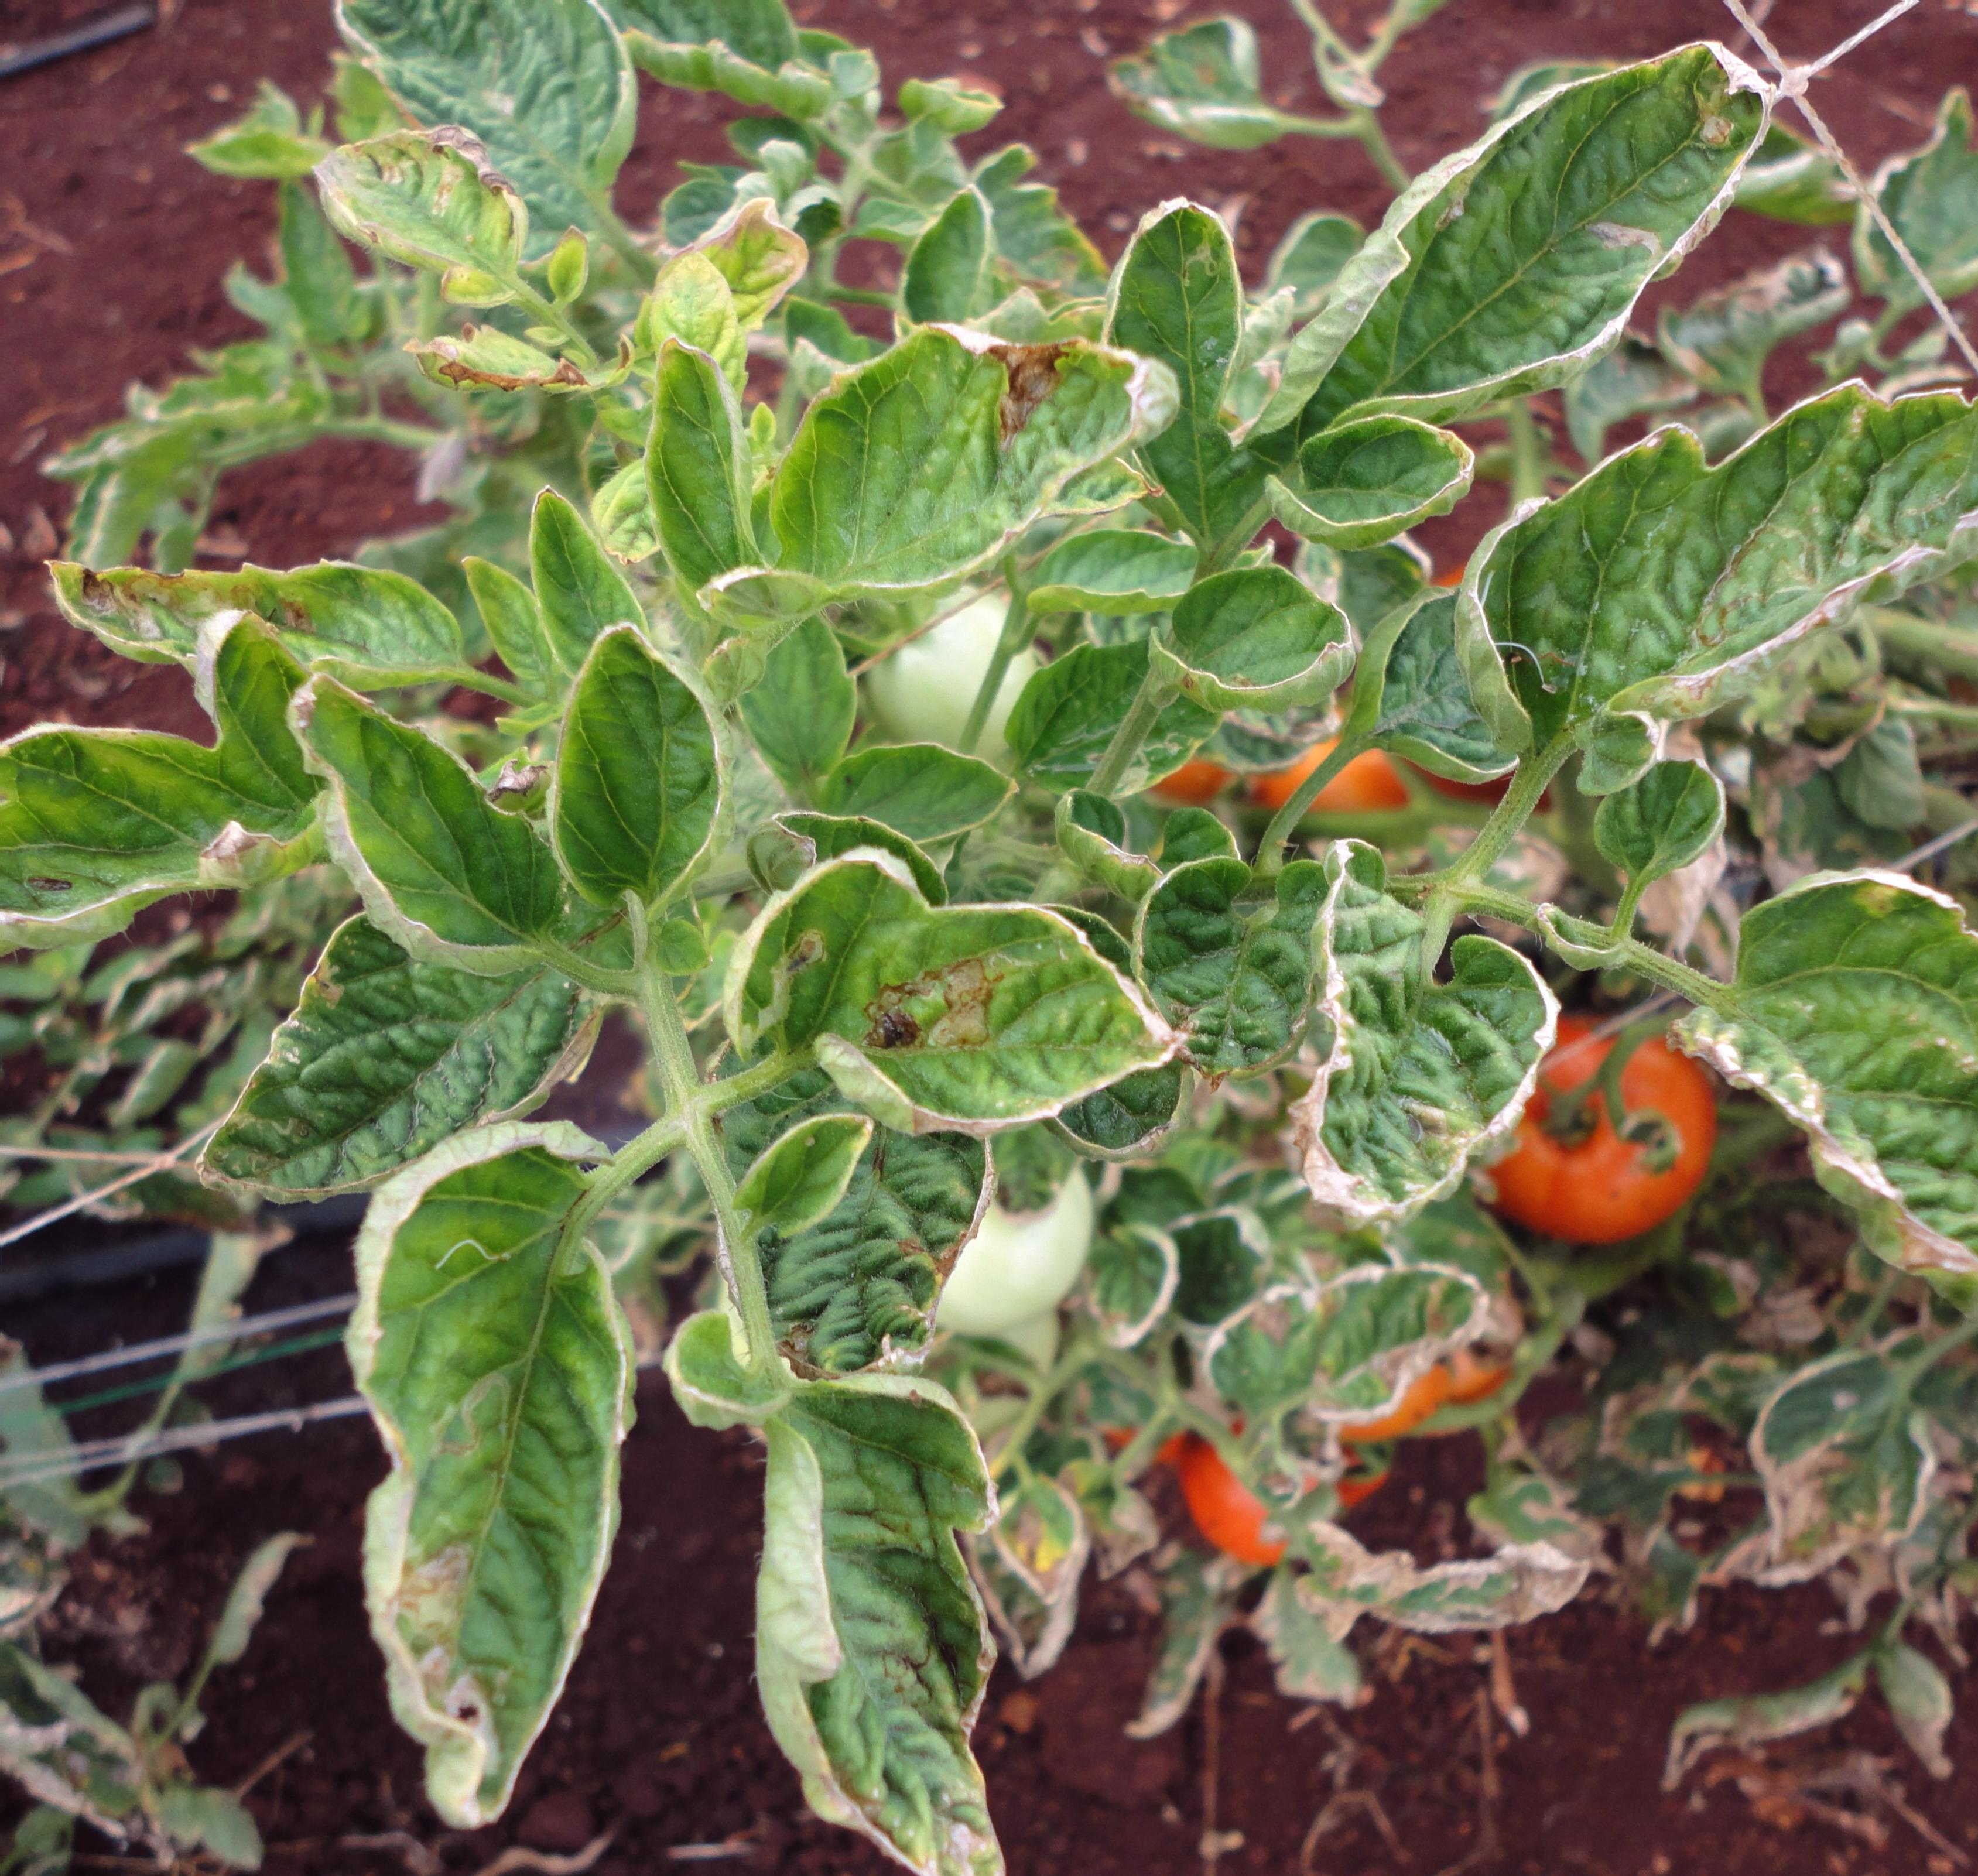Tomato leaf yellow virus: (1094, 37, 1804, 598), (637, 1325, 1102, 1876), (600, 283, 1197, 681), (316, 1101, 643, 1810), (1416, 367, 1978, 714), (0, 569, 335, 1113), (717, 772, 1197, 1128), (1278, 832, 1587, 1357), (1685, 852, 1978, 1383), (206, 655, 556, 957), (467, 605, 742, 913)
